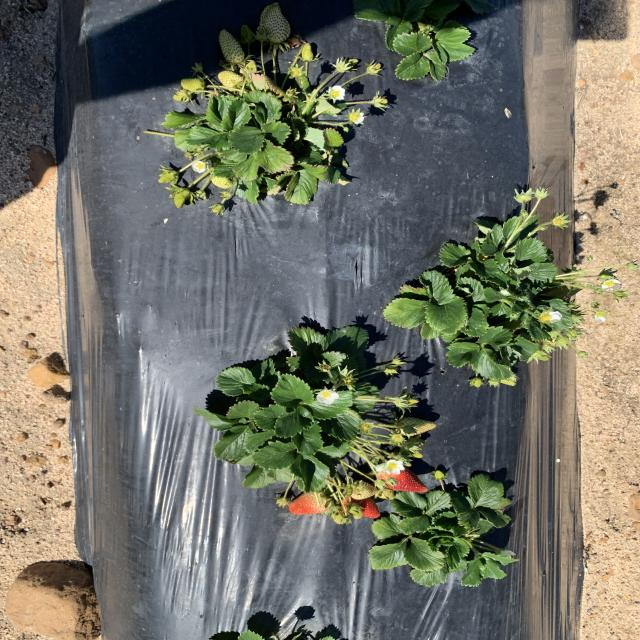unripe: (378, 463, 432, 496), (338, 488, 380, 521), (286, 492, 333, 517)
